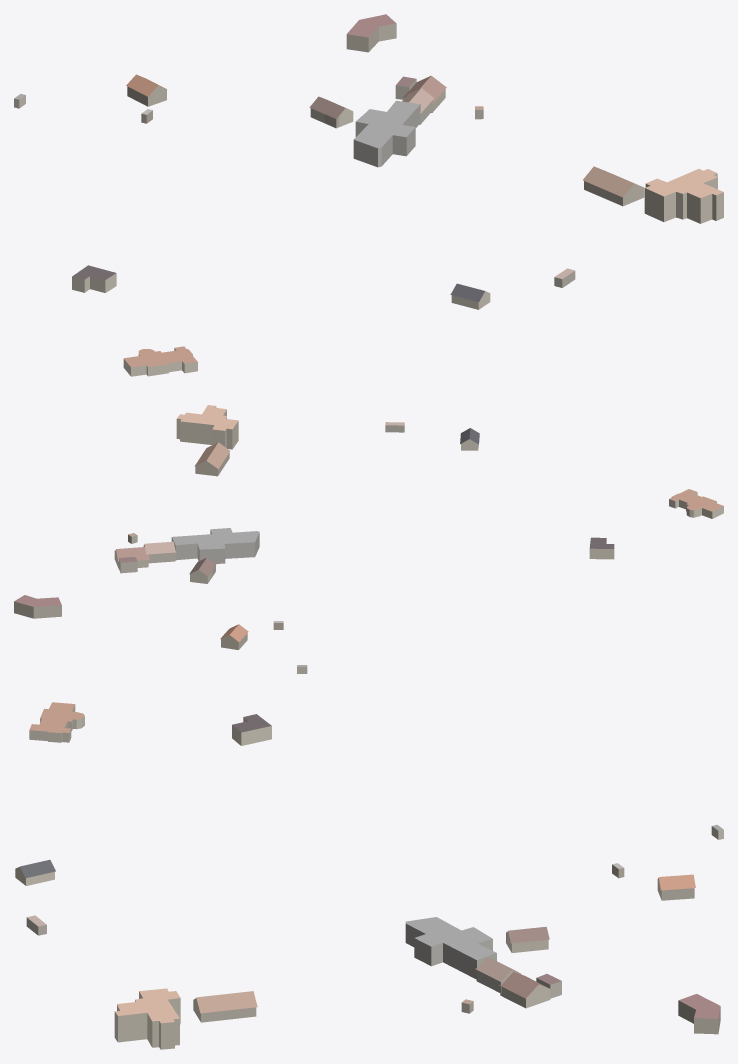
3 renders of one model, top to bottom at view 1: azimuth 30°, elevation 25°; view 2: azimuth 150°, elevation 25°; view 3: azimuth 270°, elevation 25°, orthographic. The views are drawn at different scales.
Parts seen in each view (by area): view 1: tuile; view 2: tuile; view 3: tuile.
Boxes of the visible parts, x1=… form: tuile: x1=14, y1=14, x2=723, y2=376; tuile: x1=14, y1=405, x2=723, y2=673; tuile: x1=15, y1=702, x2=723, y2=1049.
Bounding box in the file's own units: 262 × 19.03 × 245.
